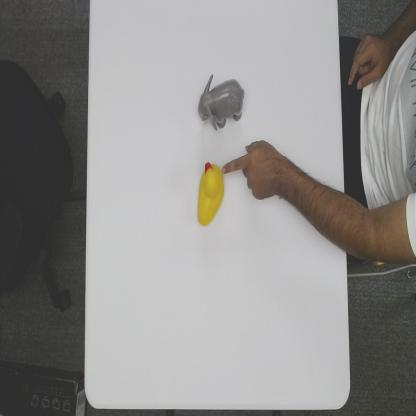Arm: (282, 154, 344, 249)
Duck: (197, 158, 224, 229)
Elephant: (197, 72, 246, 132)
Hand: (222, 139, 278, 202)
